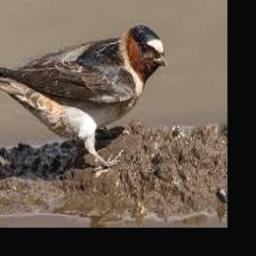Swallow: (0, 25, 167, 165)
